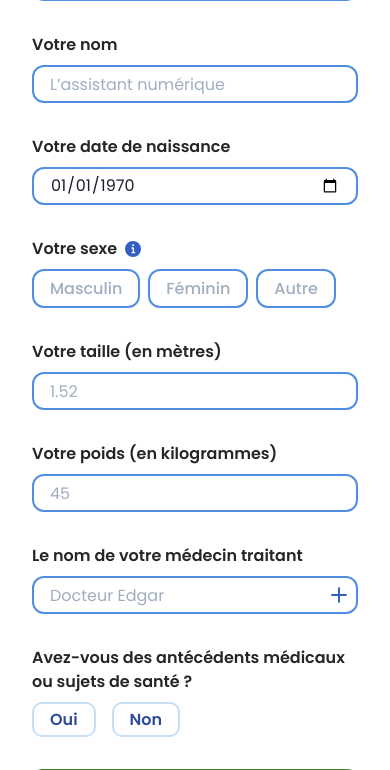
Test: Personal Info Page tests - Mobile › Working page › Error states › Bad size (too small)
The width and height of the screenshot is (390, 770).
(page scrolled)
Type "0.1" into the number field with id "edgar-onboardingPersonalPage-formSize-input" at (195, 391), box [32,372,358,410]
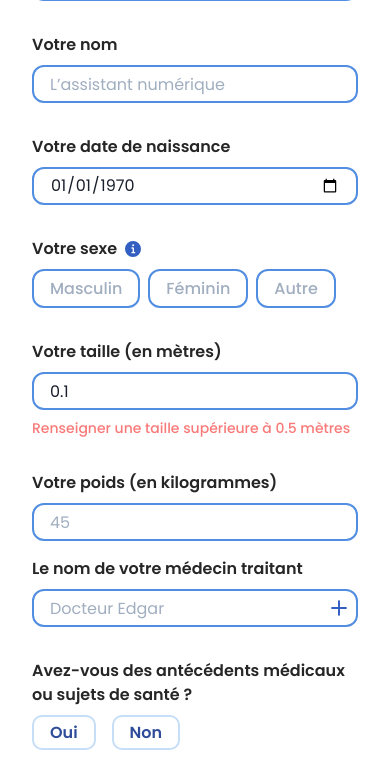
expect the text with id "edgar-onboardingPersonalPage-formSizeErrorMin-text" reads "Renseigner une taille supérieure à 0.5 mètres": met, box [32,418,350,439]
